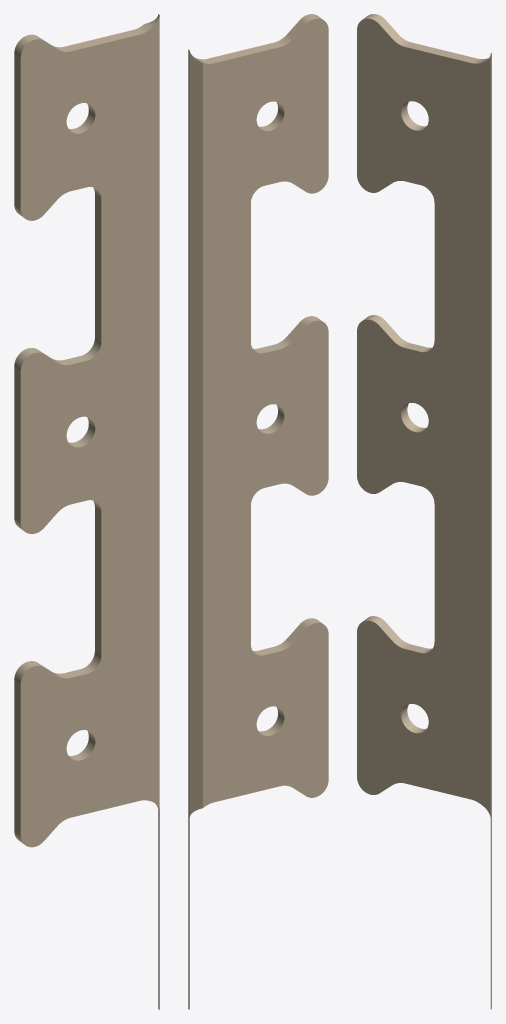
Rendered from p004-flap.glb.
3 renders of one model, left to right at view 1: azimuth 30°, elevation 25°; view 2: azimuth 210°, elevation 25°; view 3: azimuth 330°, elevation 25°, orthographic. The views are drawn at different scales.
Visible parts, largest first — view 1: p004-flap; view 2: p004-flap; view 3: p004-flap.
Boxes of the visible parts, x1,y1,x2,y2 form: p004-flap: (14, 14, 159, 1009); p004-flap: (188, 14, 328, 1009); p004-flap: (357, 14, 491, 1009).
Bounding box in the file's own units: 112 × 769 × 9.
